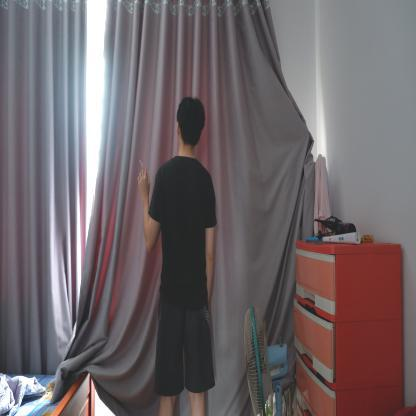cigarette: (139, 159, 145, 170)
person: (143, 91, 220, 415)
